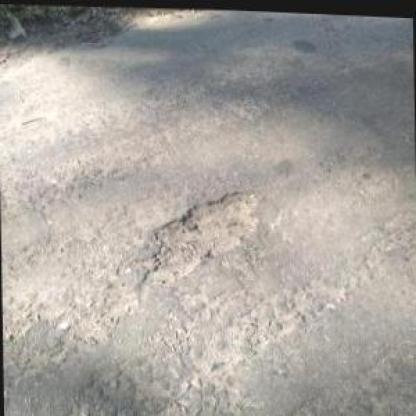pothole: (136, 179, 263, 290)
